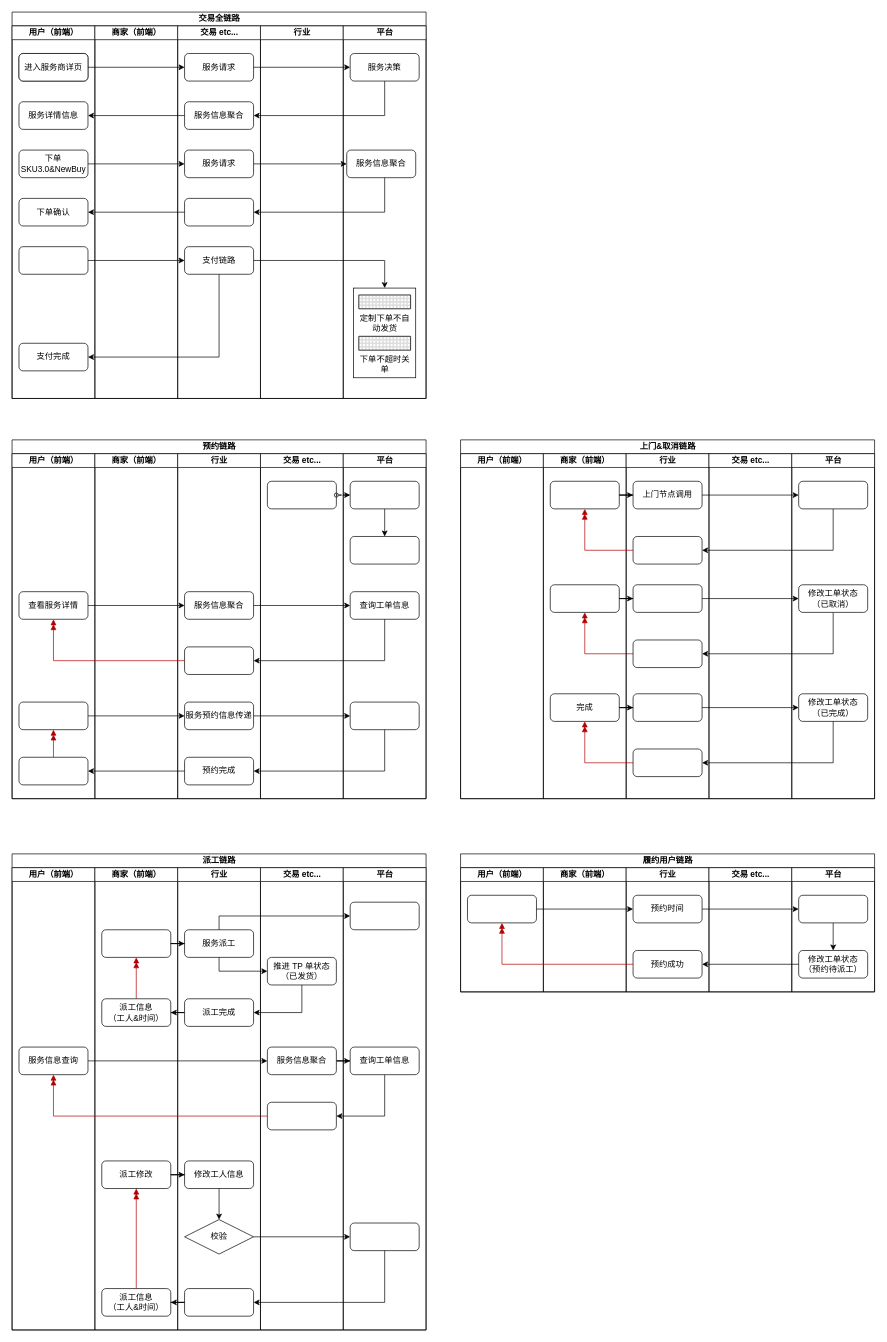
This 887x1342 diagram has some shape labels left out. The centre of each missing label's shape, as x and y in pixels:
"上门" goes at [584,495].
"交易消息" goes at [301,495].
"修改工单状态 （已上门）" goes at [833,495].
"修改工单状态 （待上门）" goes at [384,915].
"修改工单状态 （待派工）" goes at [384,715].
"修改派工完成" goes at [219,1302].
"写入预约信息" goes at [833,909].
"创建工单 （待预约）" goes at [384,550].
"取消" goes at [584,598].
"取消节点调用" goes at [667,598].
"完成节点调用" goes at [667,707].
"支付" goes at [53,260].
"支付消息监听" goes at [384,495].
"数据修改" goes at [384,1236].
"服务=已上门" goes at [667,550].
"服务=已取消" goes at [667,653].
"服务=已完成" goes at [667,762].
"服务=待上门" goes at [301,1116].
"服务=待预约" goes at [219,660].
"服务信息获取" goes at [219,212].
"服务预约" goes at [53,715].
"派工" goes at [136,943].
"预约" goes at [501,909].
"预约信息 （时间）" goes at [53,771].
